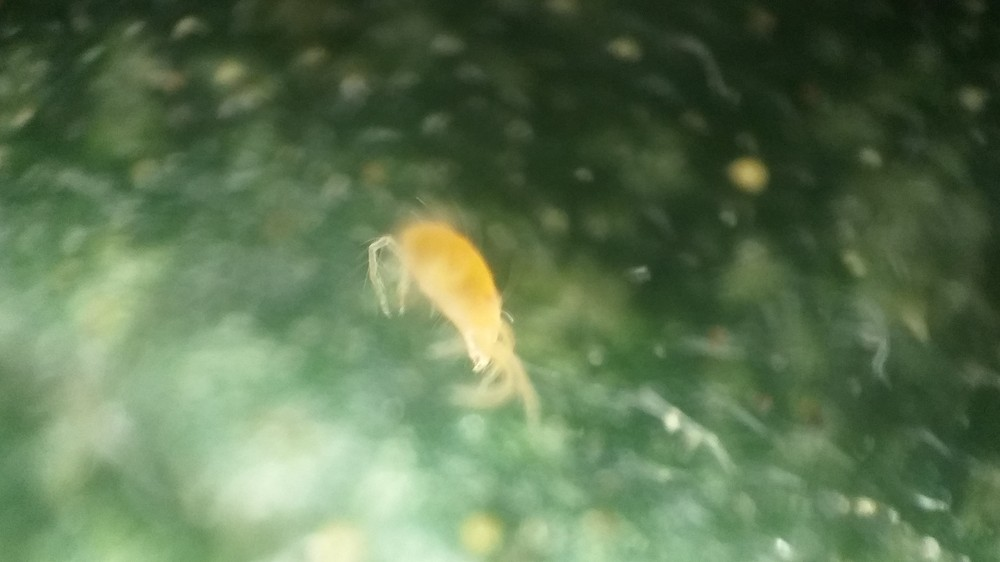Aracnido Rojo: (321, 190, 593, 447)
